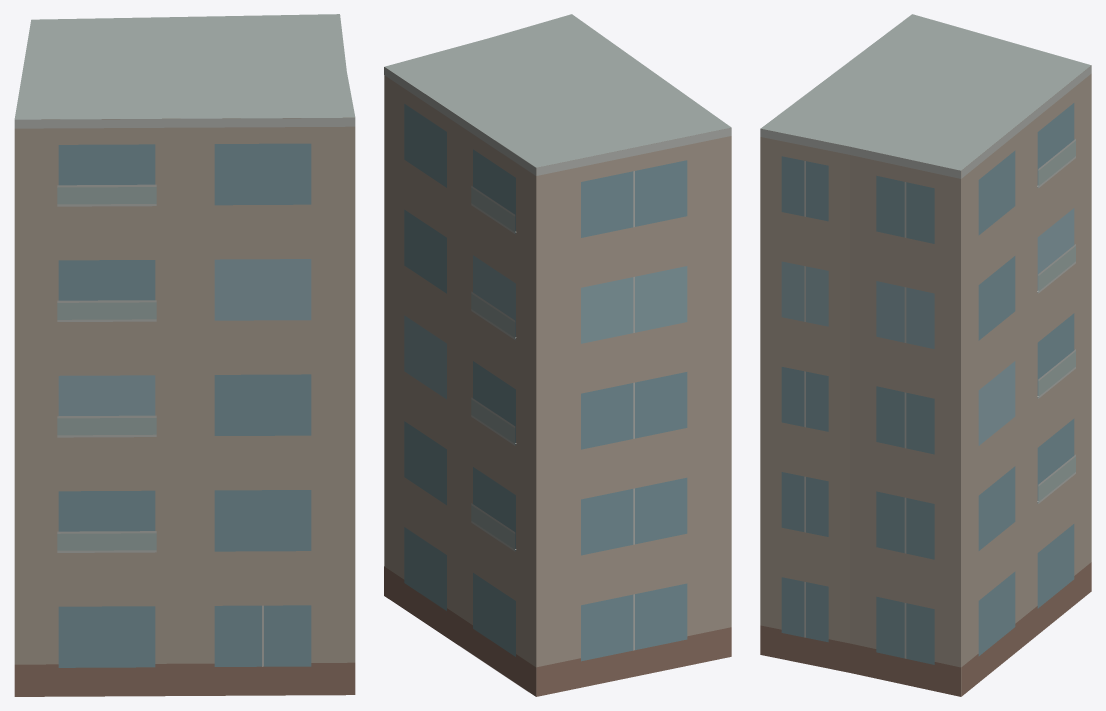
File: survey-upis-32730394.glb
3 views of the same model, side by side, from view 1: azimuth 30°, elevation 25°; view 2: azimuth 150°, elevation 25°; view 3: azimuth 270°, elevation 25° (orthographic). The views are drawn at different scales.
Parts seen in each view (by area): view 1: survey-upis-32730394.tmp; view 2: survey-upis-32730394.tmp; view 3: survey-upis-32730394.tmp.
Part boxes in pixels (box(x1,y1,x2,y2)): survey-upis-32730394.tmp: box(14, 14, 355, 696); survey-upis-32730394.tmp: box(384, 14, 731, 696); survey-upis-32730394.tmp: box(760, 14, 1091, 696).
Size of the model in its own units: 9.94 by 15.55 by 8.88.
